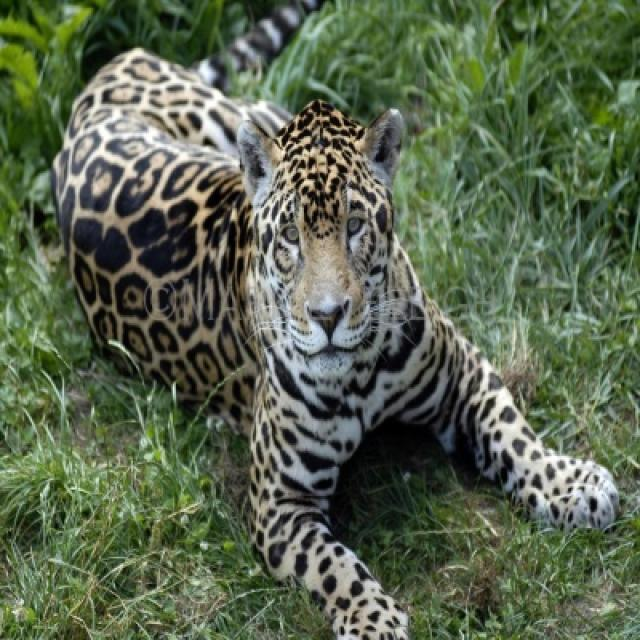Jaguar: (51, 0, 618, 638)
